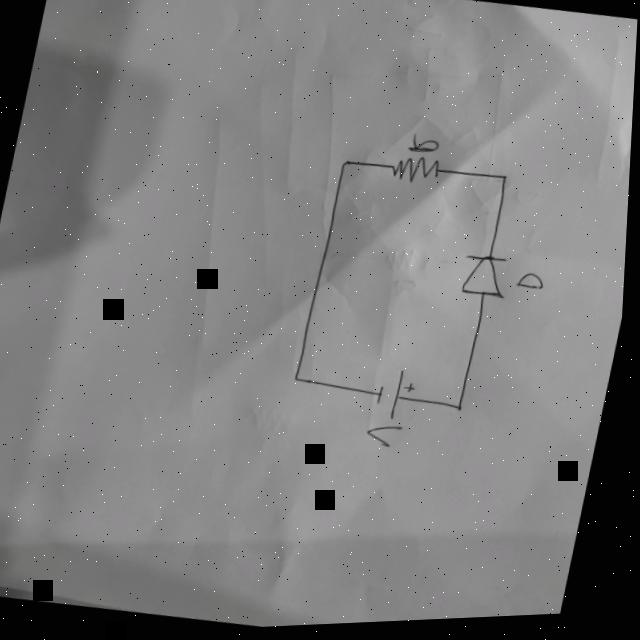diode: (460, 255, 517, 305)
junction: (341, 161, 354, 173), (294, 377, 308, 387), (459, 407, 471, 418), (502, 177, 514, 186)
resistor: (392, 155, 447, 192)
source: (378, 369, 426, 428)
text: (368, 424, 410, 454), (409, 134, 445, 160), (517, 274, 552, 296)
